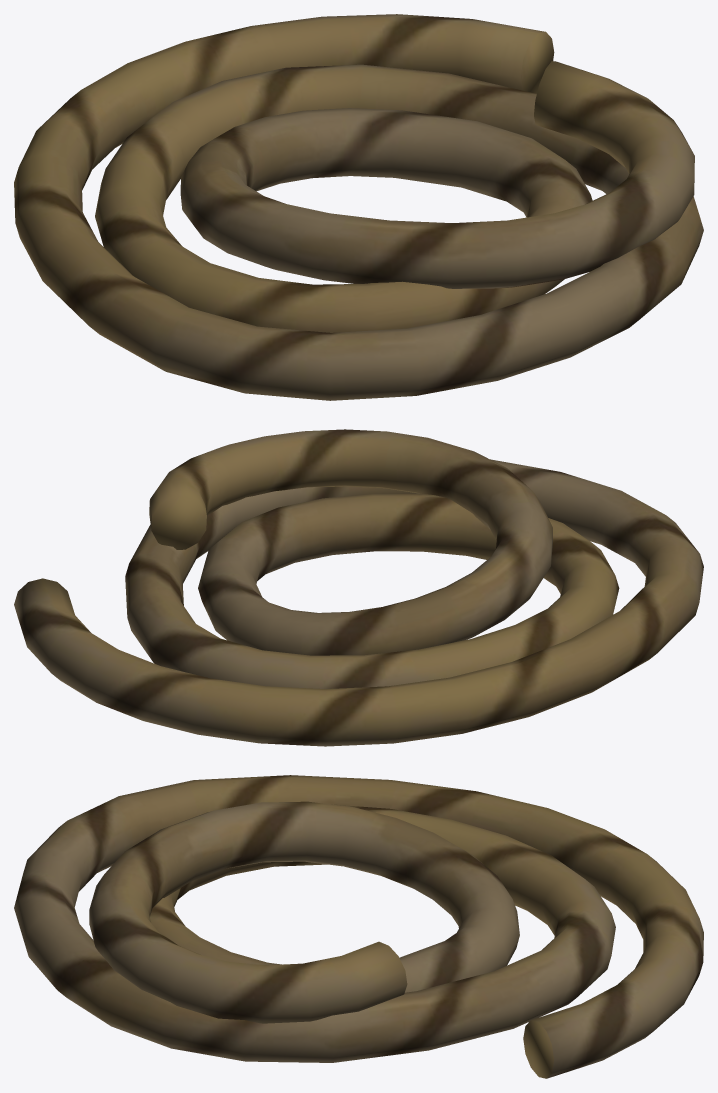
The model's file is Rope_1.gltf.
3 renders of one model, top to bottom at view 1: azimuth 30°, elevation 25°; view 2: azimuth 150°, elevation 25°; view 3: azimuth 270°, elevation 25°, orthographic. The views are drawn at different scales.
Parts seen in each view (by area): view 1: Rope_1; view 2: Rope_1; view 3: Rope_1.
Boxes of the visible parts, x1,y1,x2,y2 form: Rope_1: (14,14,703,400); Rope_1: (14,429,703,746); Rope_1: (14,775,703,1078).
Bounding box in the file's own units: 0.5574 × 0.0979 × 0.6063.
Materials: 1 (1 with a texture image).
